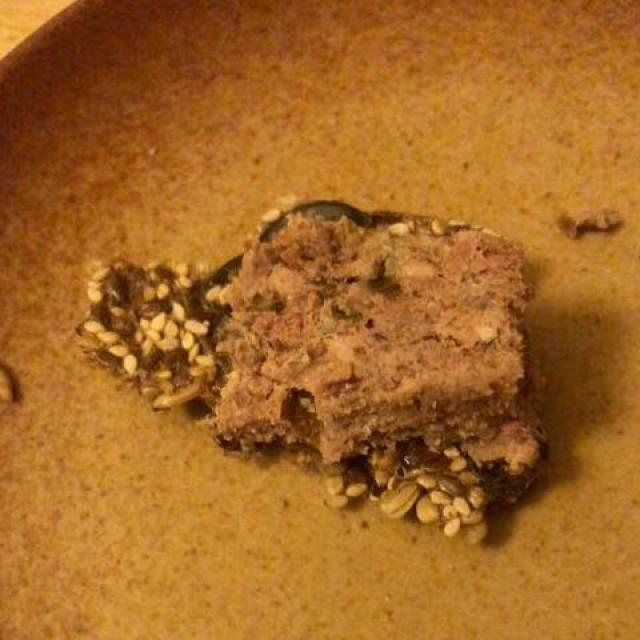meat-terrine-pate: (218, 205, 526, 453)
mixed-seeds: (79, 262, 231, 405)
